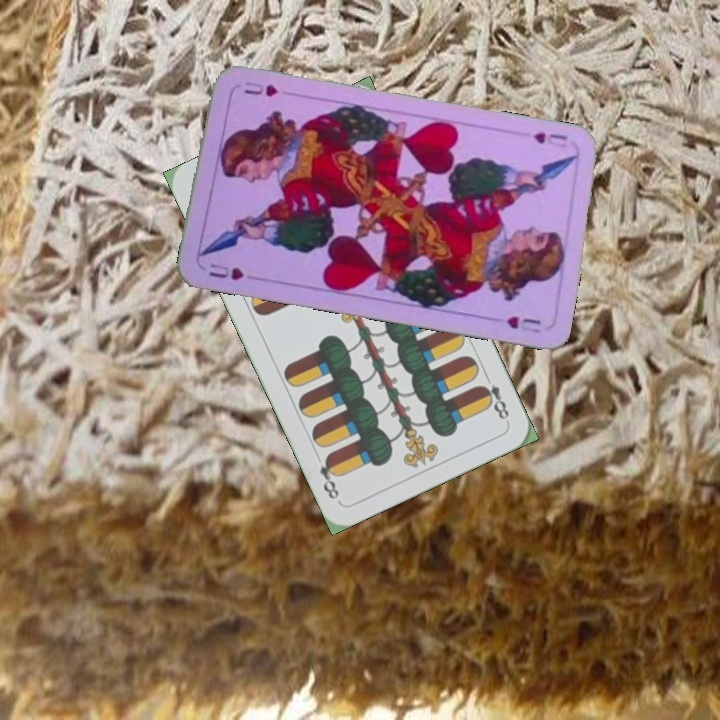E8: (475, 369, 512, 422)
HU: (205, 259, 246, 283), (530, 127, 570, 151)
